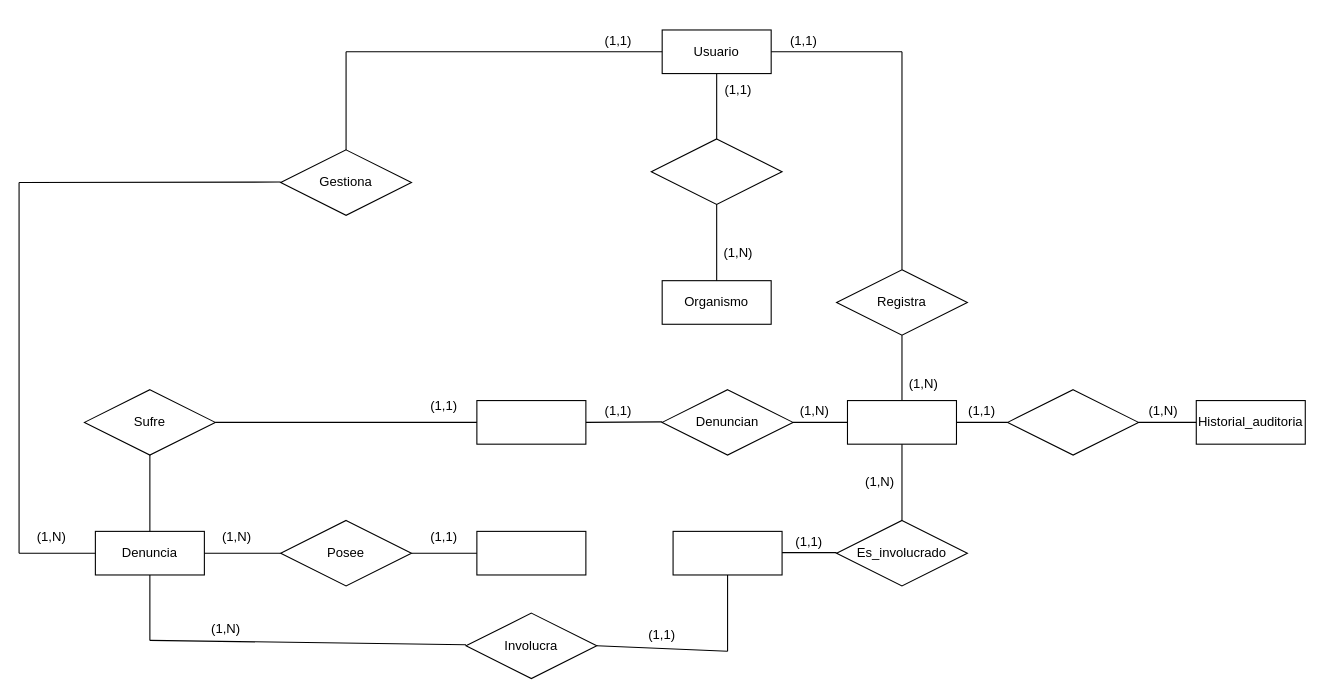
The diagram is 1324 pixels wide and 698 high, and some of its shapes have lost their labels. The shapes that lost their labels are listed below. From the top down, each one's box as (x1, y1, x2, y2) in pixels, then its label:
(650, 138, 782, 204): Pertenece
(476, 399, 586, 444): Victima
(846, 399, 956, 444): Casos
(1007, 389, 1139, 455): Generan
(476, 530, 586, 575): Estado
(672, 530, 782, 575): Animal
